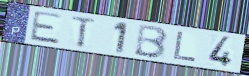1: (112, 21, 130, 55)
4: (206, 34, 235, 70)
B: (132, 24, 170, 61)
E: (29, 10, 66, 46)
L: (171, 30, 198, 63)
T: (70, 15, 98, 49)
